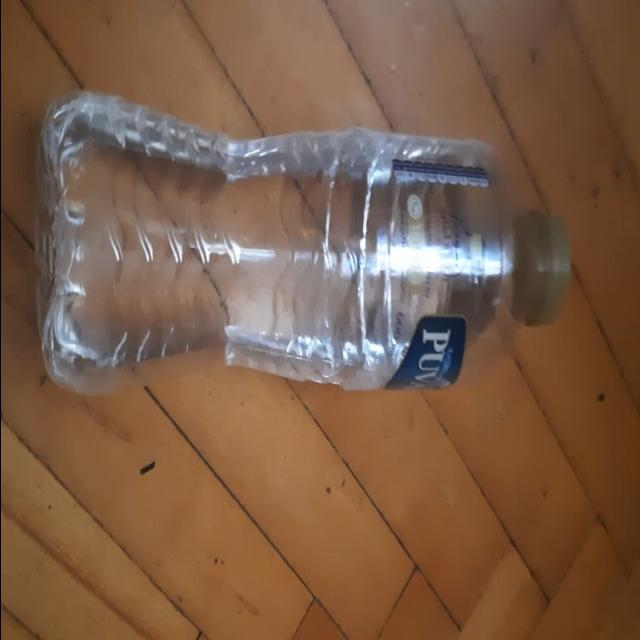Plastic: (27, 88, 570, 396)
